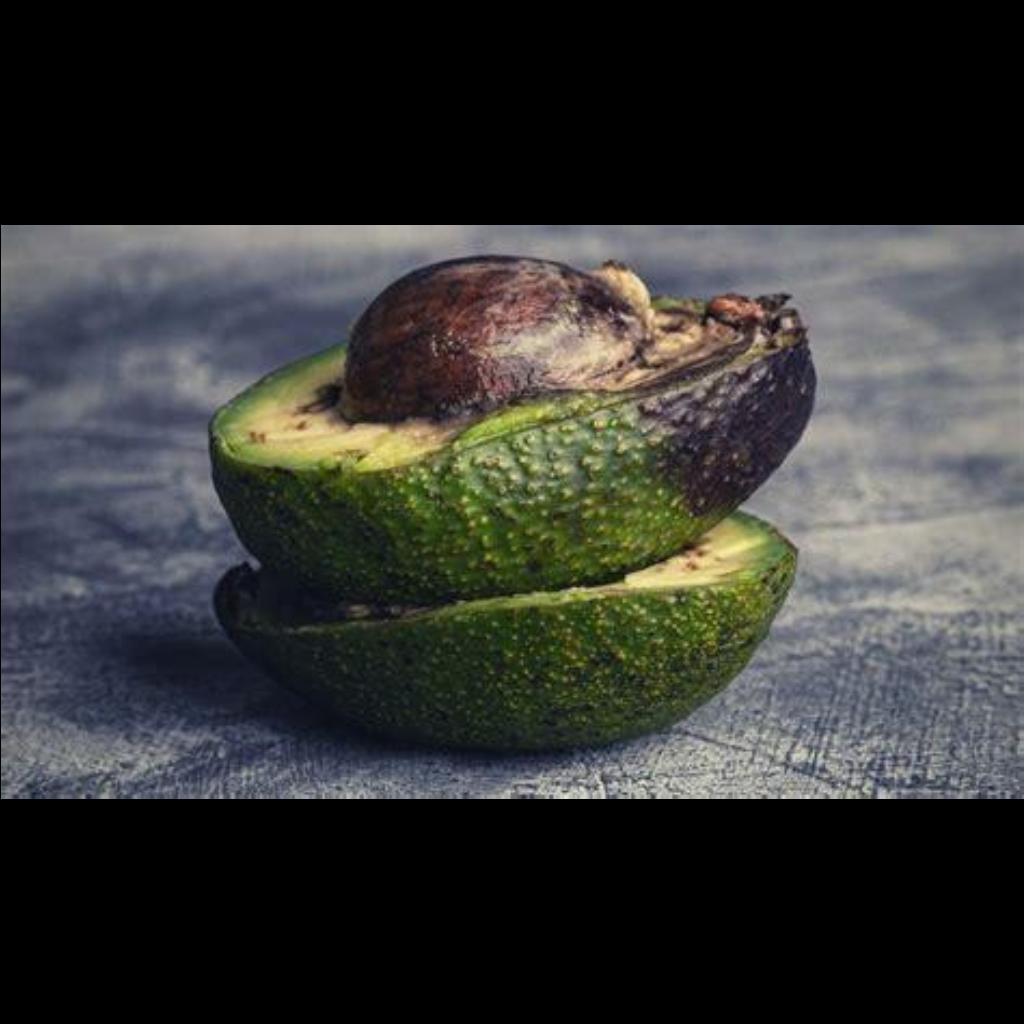Anthracnose: (230, 242, 824, 566)
